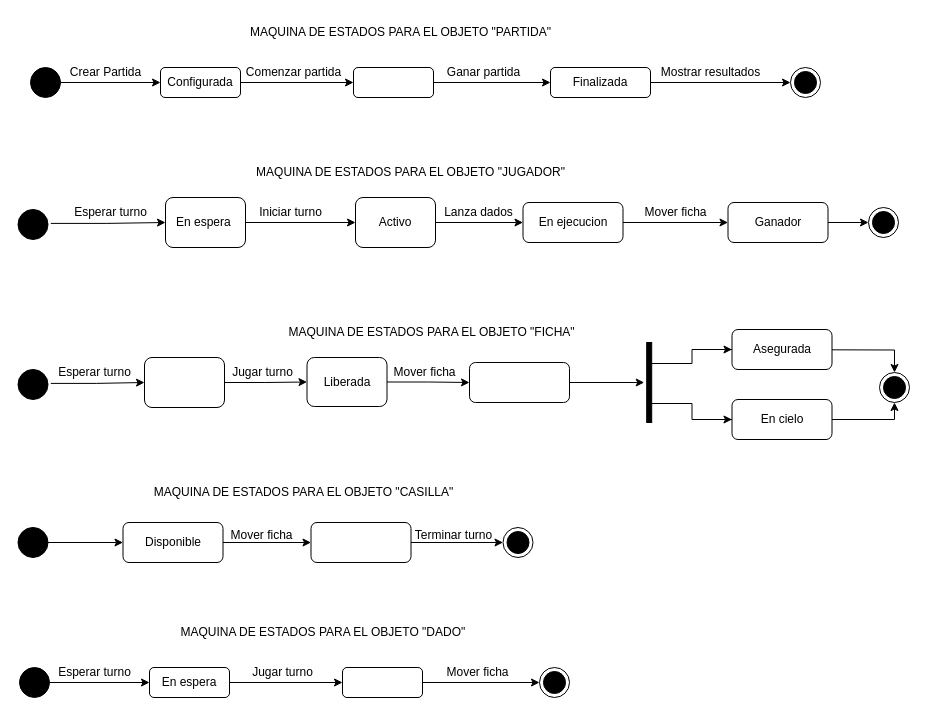
Image size: 927x715. Some labels were removed from this diagram. Each missing label, with the centre of its shape:
"Encarcelada" goes at (184,382).
"Iniciada" goes at (393,82).
"Lanzado" goes at (382,682).
"Movida" goes at (519,382).
"Ocupada" goes at (360,542).
